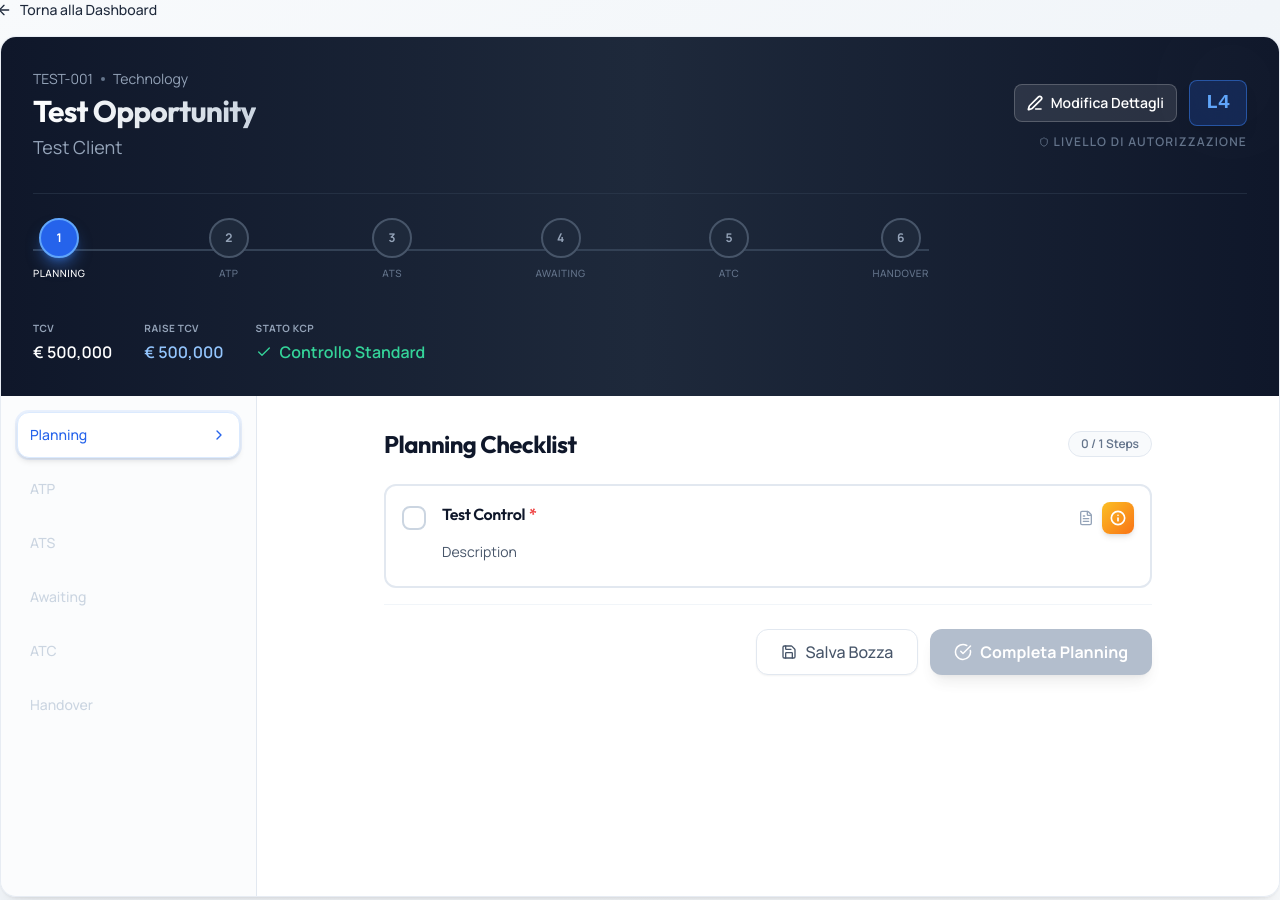
Test case: OpportunityWorkflow › Info Popups › should show folder path in detail modal
Click the button titled "Visualizza dettagli" at {"x": 1118, "y": 518}, box [1102,502,1134,534]
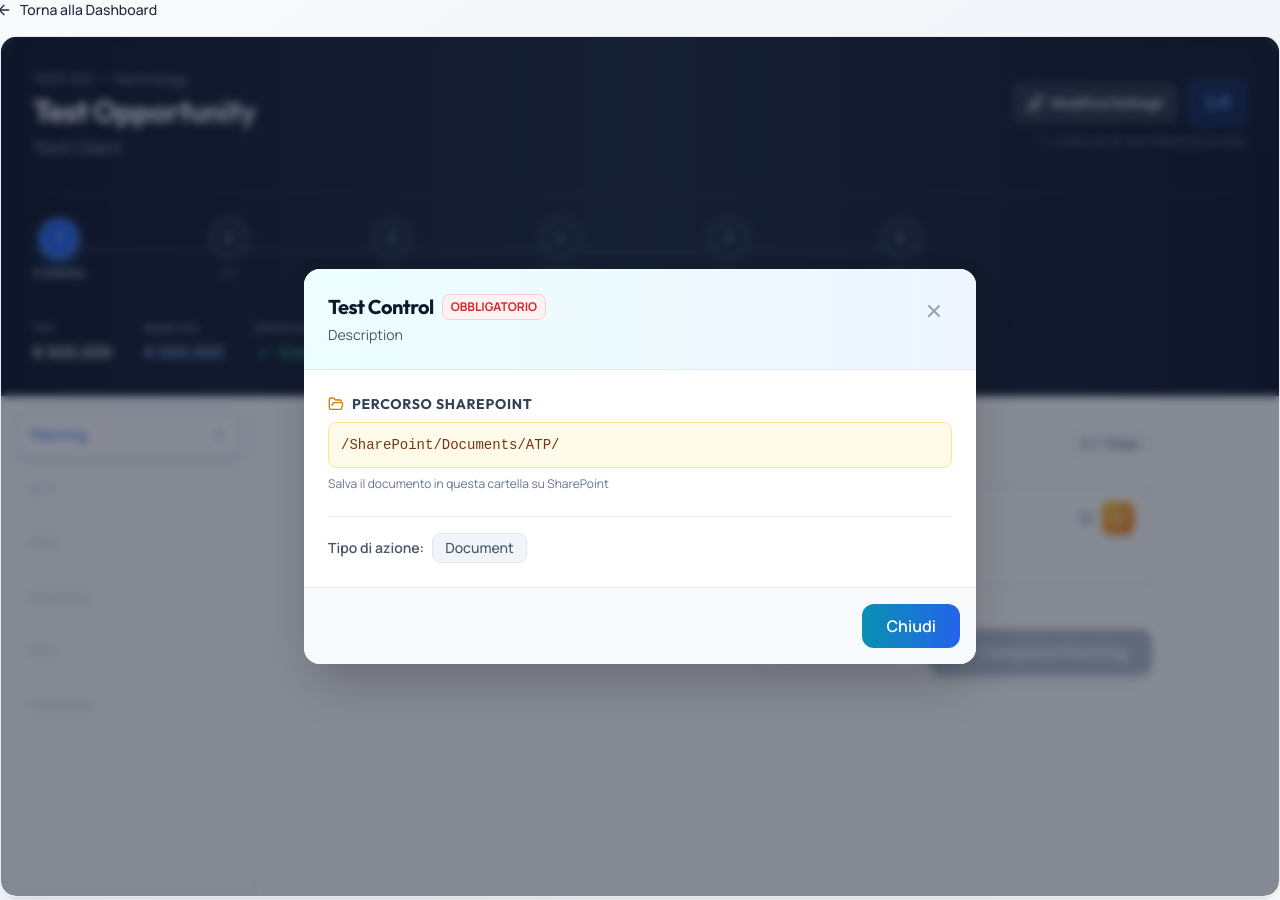
Expected: the text "/SharePoint/Documents/ATP/" is shown, [328,422,952,468]
